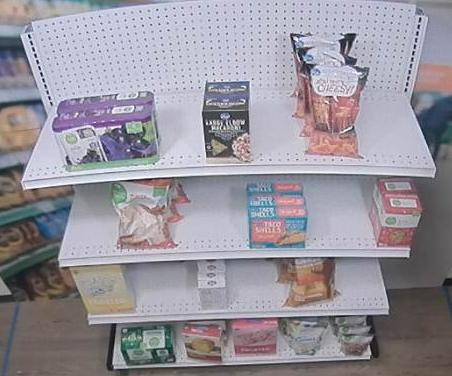stockout: (366, 68, 433, 165), (177, 178, 245, 248), (308, 177, 374, 246), (250, 79, 305, 161), (159, 85, 204, 164), (62, 187, 114, 254), (127, 263, 197, 311), (21, 99, 60, 172), (338, 260, 390, 310), (229, 259, 281, 307)
